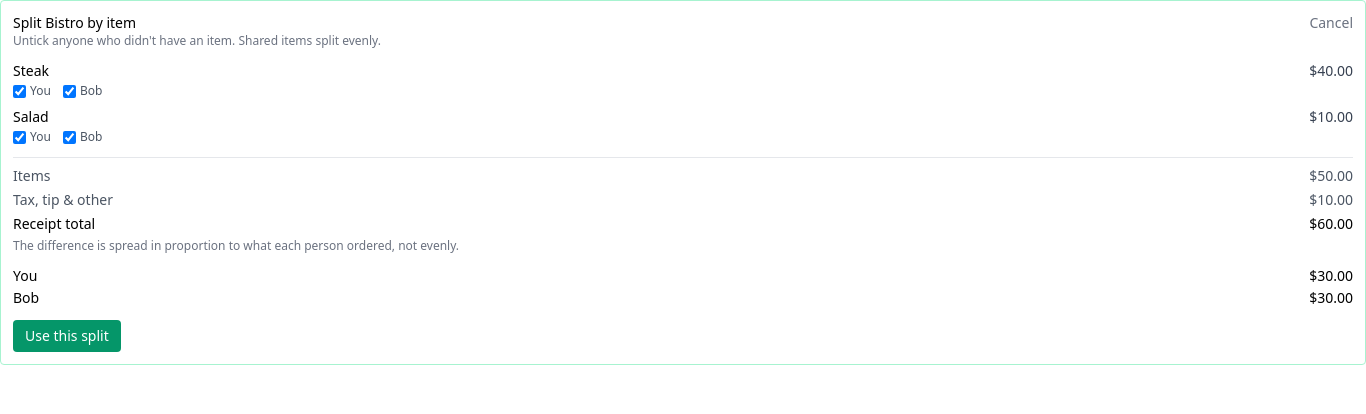
Test: ReceiptItemSplitter › blocks applying while an item is assigned to nobody, and says so
Click the checkbox named "Salad - You": x=20, y=137 x1=13 y1=130 x2=26 y2=144
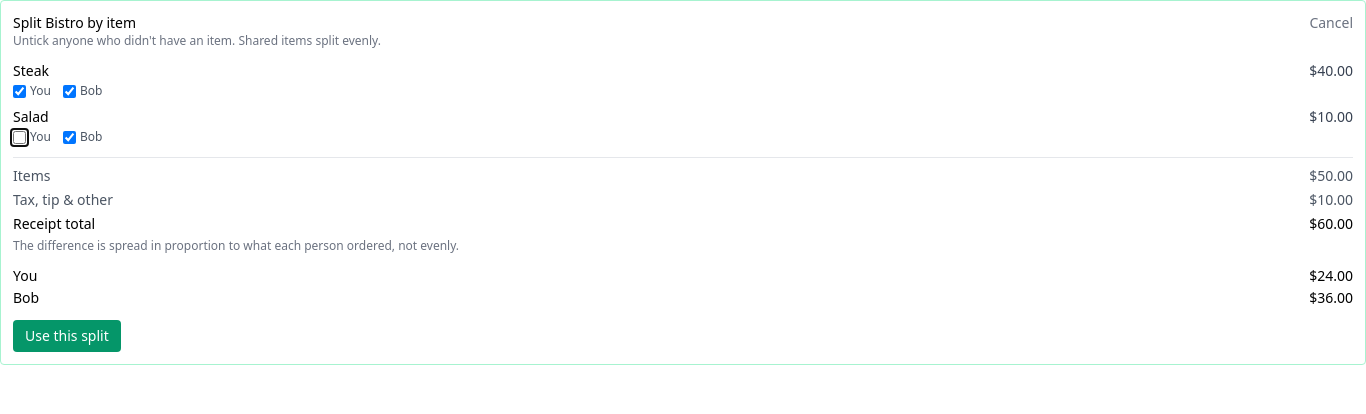
Click the checkbox named "Salad - Bob": x=69, y=137 x1=63 y1=130 x2=76 y2=144
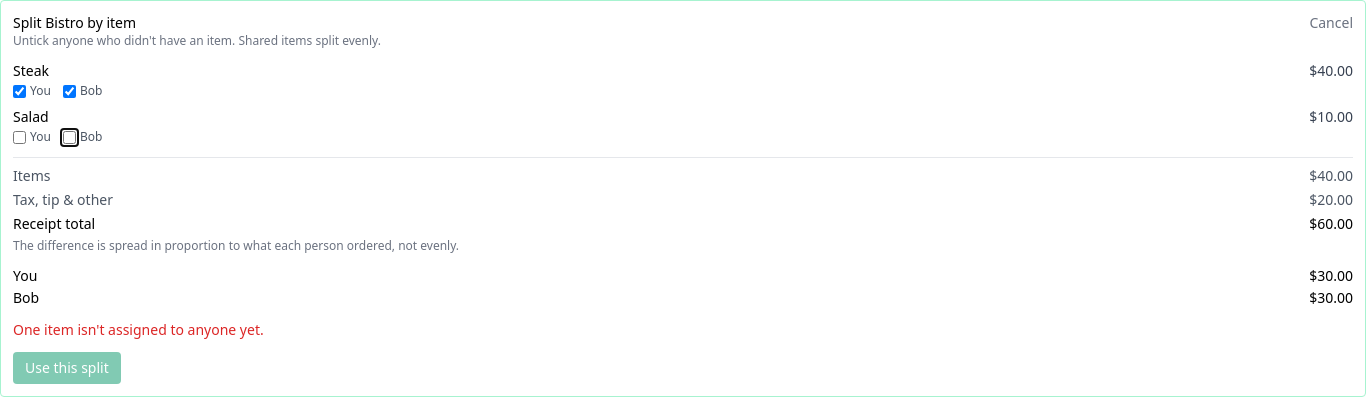
Expected: the text "One item isn't assigned to anyone yet." is shown, x1=13 y1=320 x2=264 y2=339
Expected: the button "Use this split" is disabled, x1=13 y1=352 x2=121 y2=384
